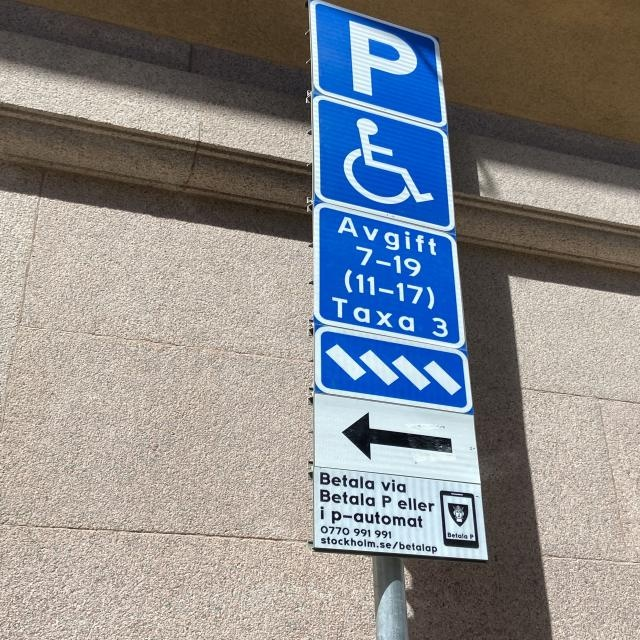P-skylt: (312, 0, 446, 130)
